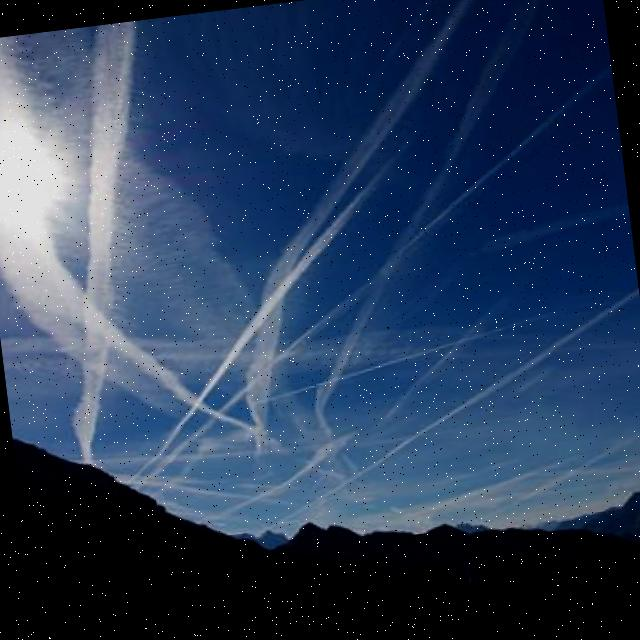Ct: (1, 1, 640, 423)
